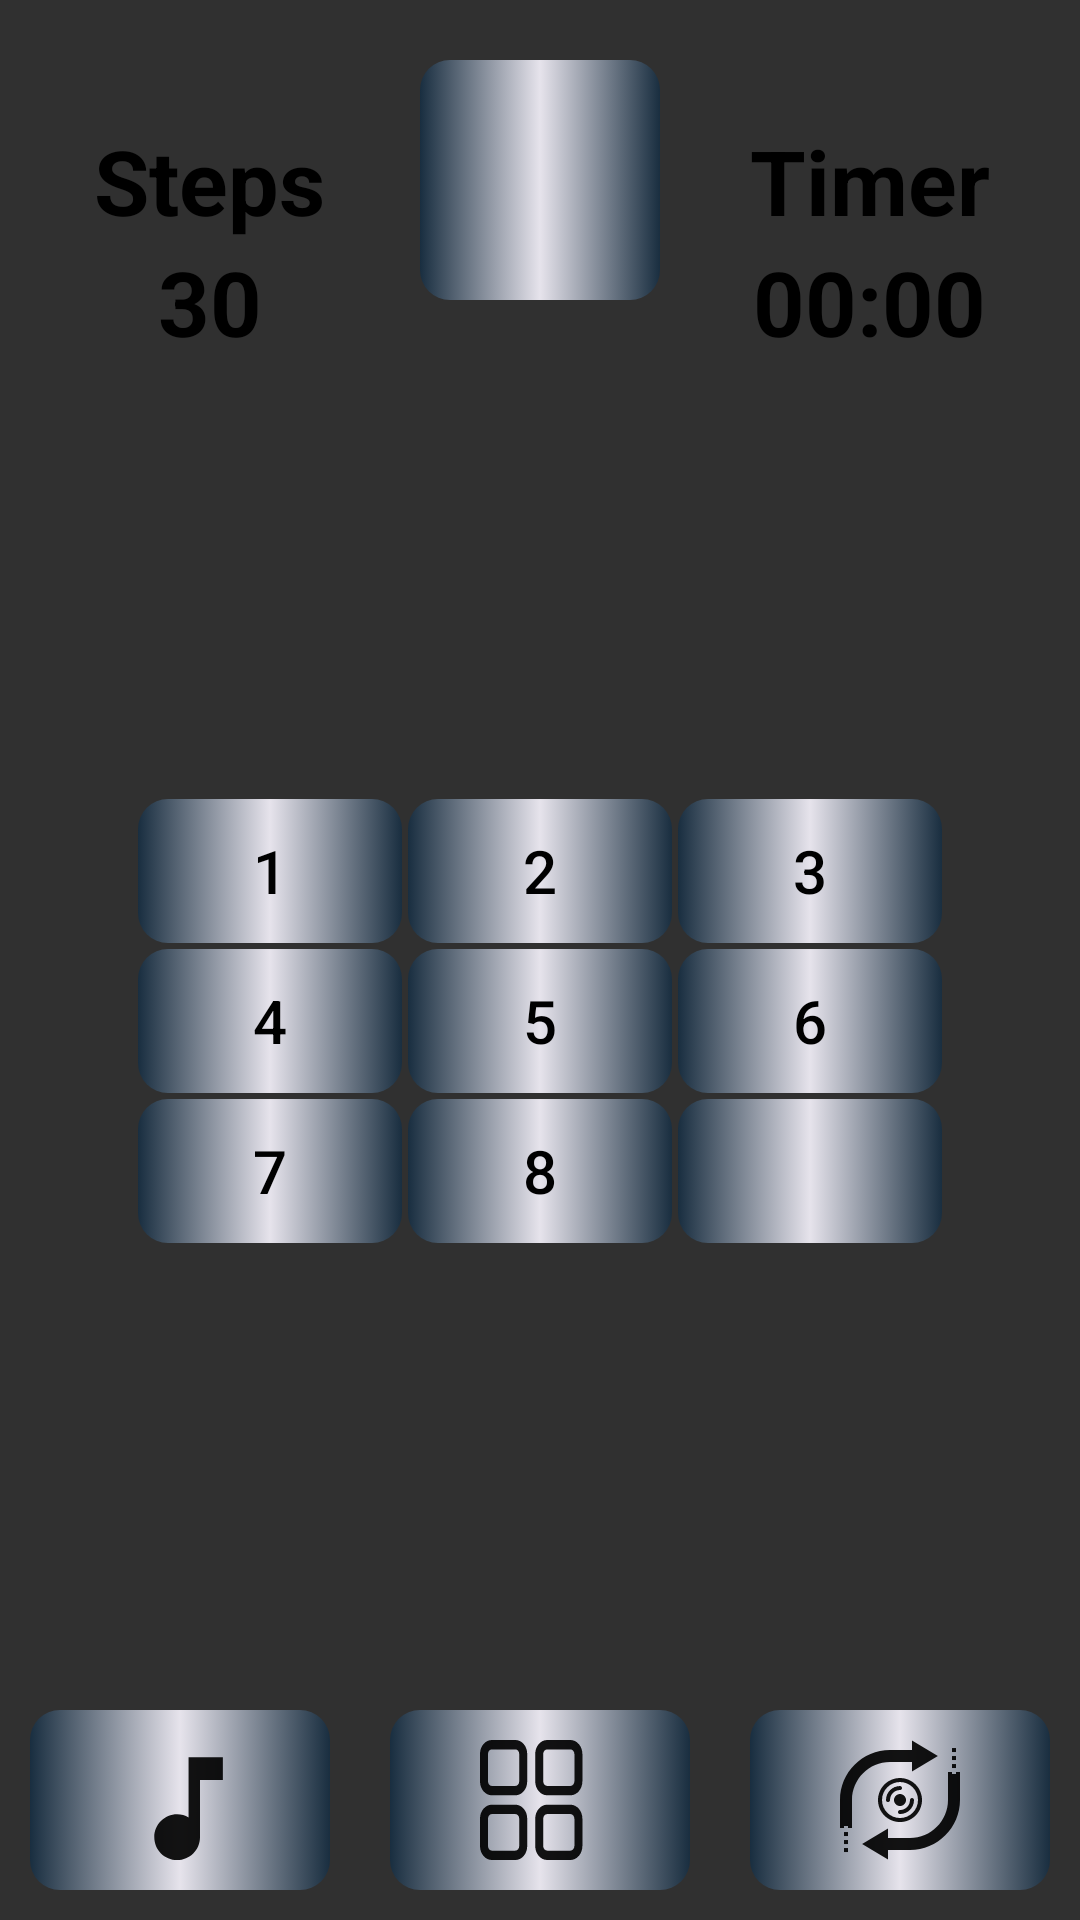

Icons on this 1080 x 1920 Android screen, each with its box as (x1, y1, x2, y2):
menu: (397, 1710, 683, 1890)
music note: (37, 1710, 323, 1890)
refresh: (757, 1710, 1043, 1890)
